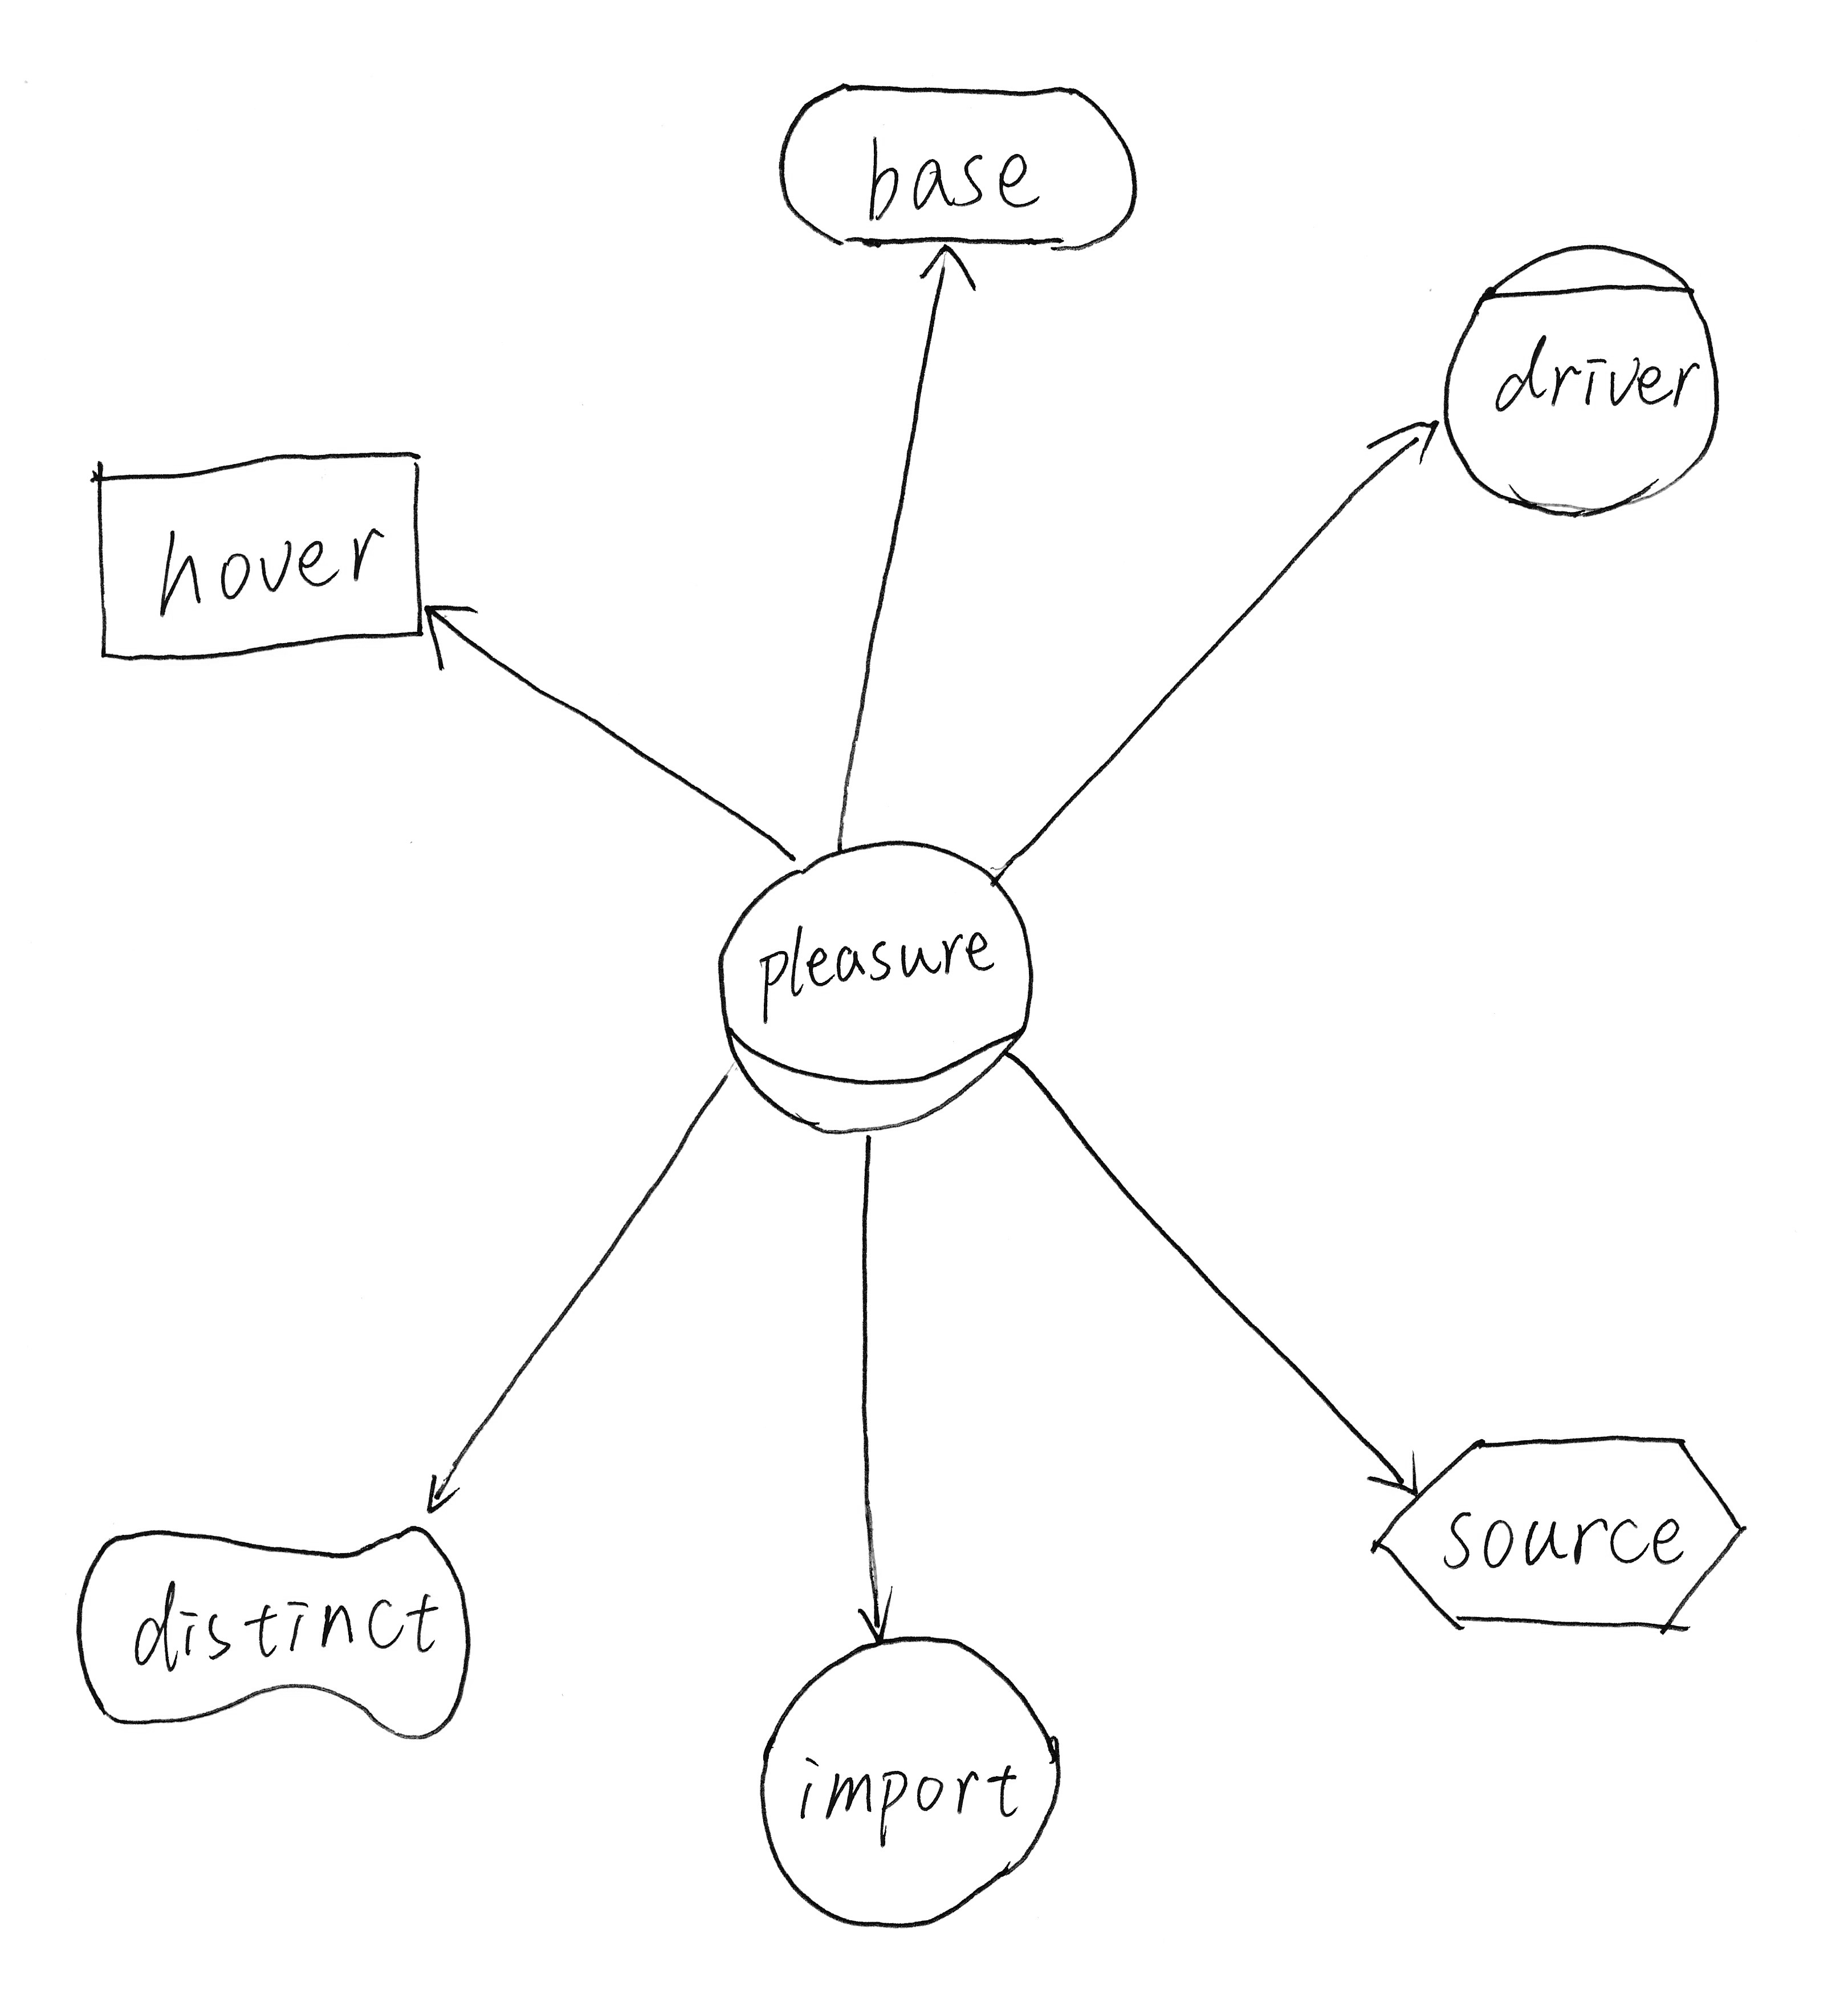actor: (740, 1615, 1096, 1958)
agent: (1420, 219, 1745, 535)
arrow: (397, 584, 498, 692), (1353, 392, 1458, 493), (1346, 1428, 1449, 1530), (899, 219, 1000, 306), (837, 1572, 932, 1661), (407, 1444, 477, 1544)
goal: (766, 58, 1166, 273)
quality: (45, 1497, 484, 1760)
resource: (68, 420, 458, 687)
role: (706, 822, 1053, 1152)
task: (1355, 1413, 1773, 1668)
